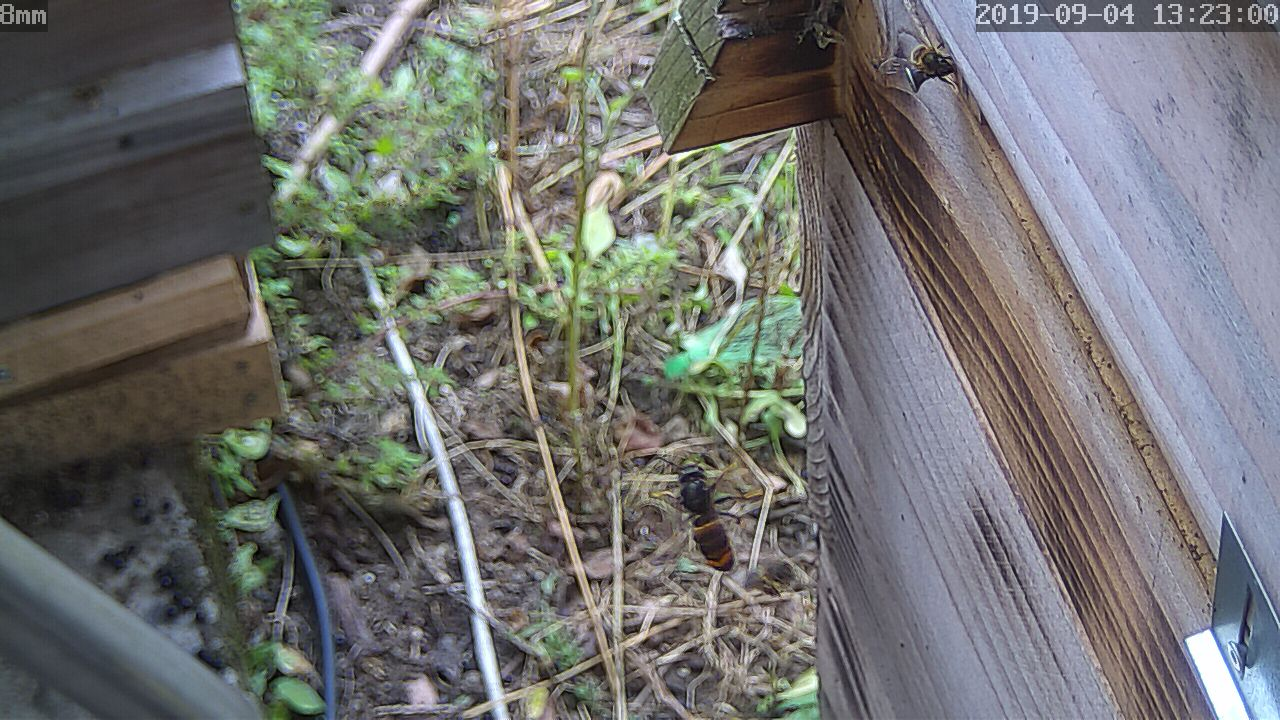bee: (896, 34, 948, 86)
hornet: (651, 451, 752, 577)
